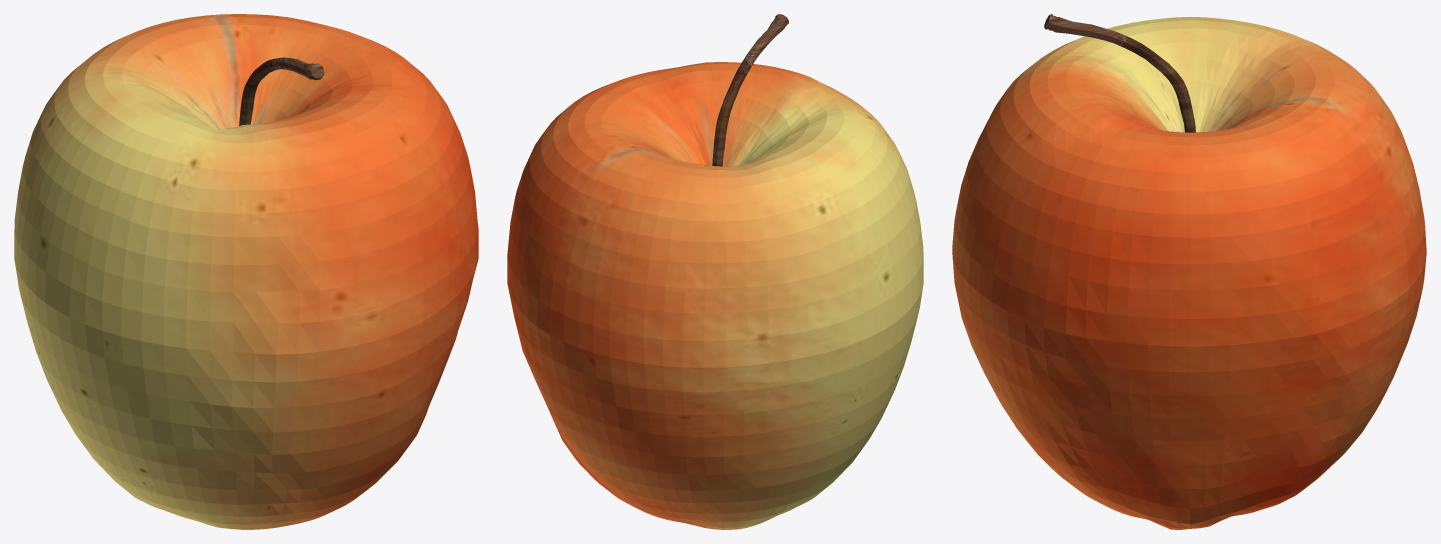
Rendered from apple.obj.
The picture shows the model from 3 angles, left to right: view 1: azimuth 30°, elevation 25°; view 2: azimuth 150°, elevation 25°; view 3: azimuth 270°, elevation 25°; orthographic projection. The views are drawn at different scales.
Size of the model in its own units: 0.3008 by 0.3568 by 0.3172.
2 materials, 2 textured.
